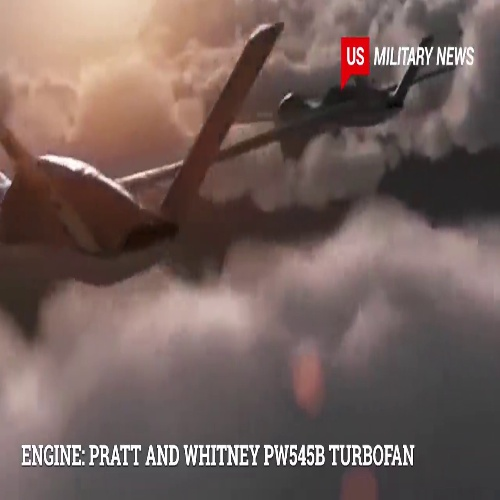uav: (2, 24, 285, 252)
